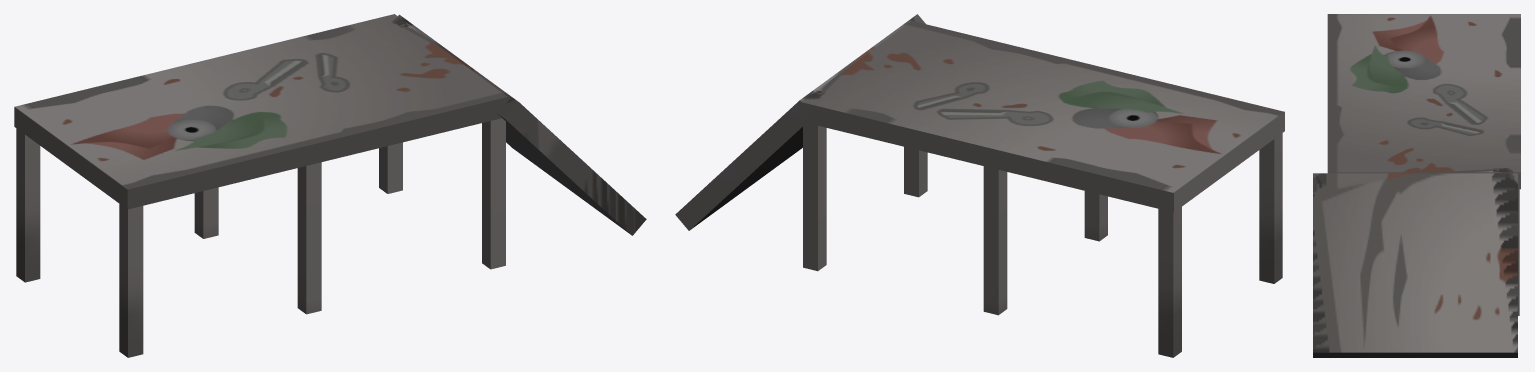
The model's file is Building_AncientTableTailorHand.obj.
3 renders of one model, left to right at view 1: azimuth 30°, elevation 25°; view 2: azimuth 150°, elevation 25°; view 3: azimuth 270°, elevation 25°, orthographic. The views are drawn at different scales.
Parts seen in each view (by area): view 1: Body; view 2: Body; view 3: Body.
Boxes of the visible parts, x1,y1,x2,y2 form: Body: [14, 14, 646, 357]; Body: [675, 14, 1284, 357]; Body: [1313, 14, 1520, 357].
Size of the model in its own units: 2.68 by 0.85 by 1.11.
Materials: 1 (1 with a texture image).
